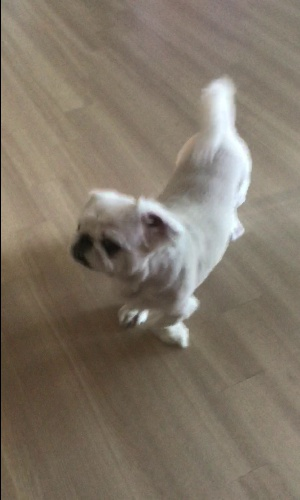ddubi: (66, 67, 257, 353)
